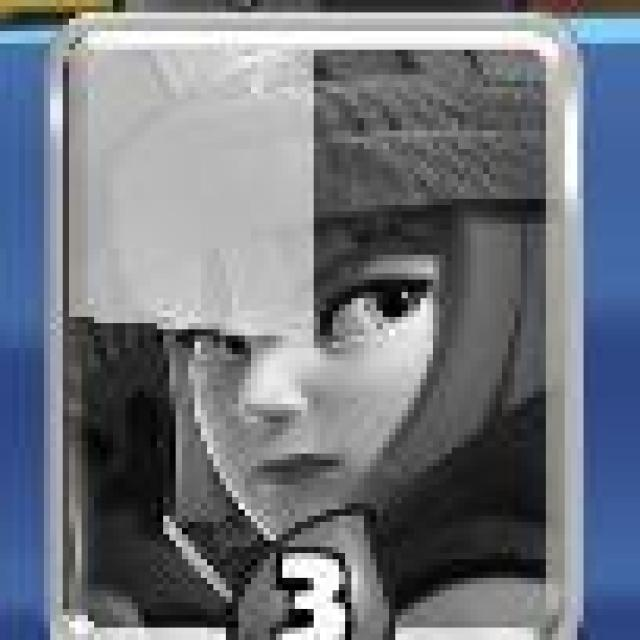Firecracker: (43, 13, 587, 640)
